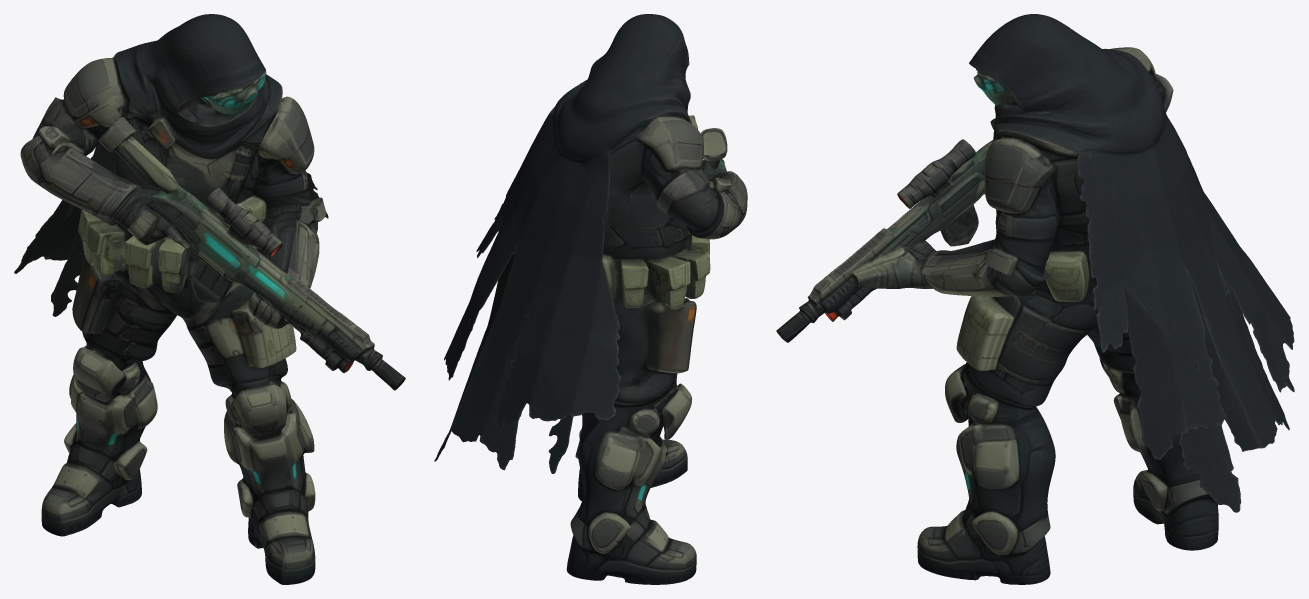
The model's file is veteran_stalker.glb.
3 views of the same model, side by side, from view 1: azimuth 30°, elevation 25°; view 2: azimuth 150°, elevation 25°; view 3: azimuth 270°, elevation 25° (orthographic). The views are drawn at different scales.
Bounding box in the file's own units: 1.09 × 1.9 × 1.68.
Materials: 1 (1 with a texture image).
